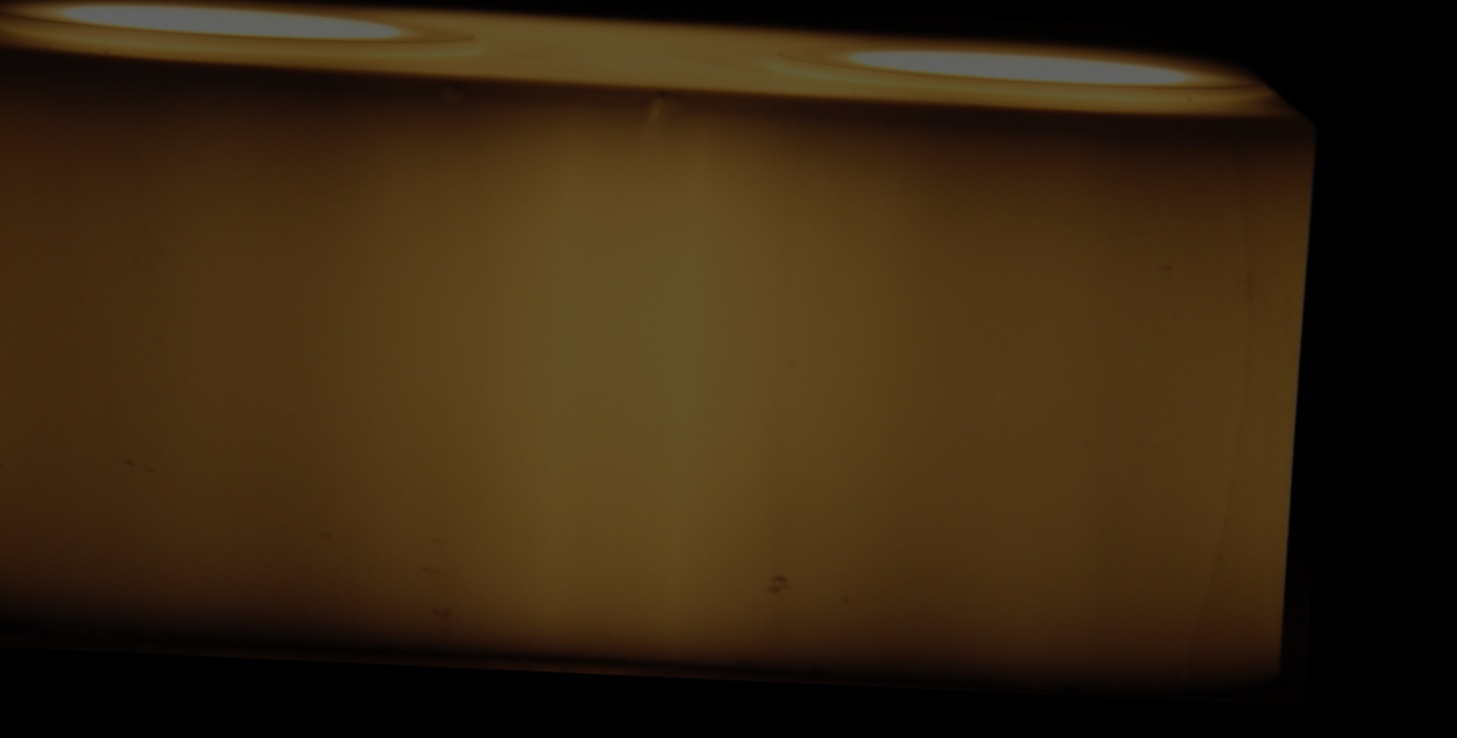flaw: (1182, 117, 1266, 678)
hiatus: (634, 83, 699, 132), (420, 75, 479, 124)
